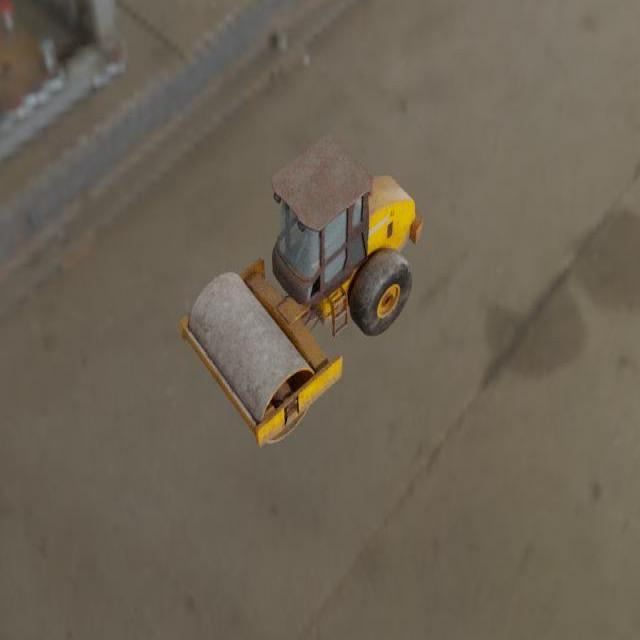Roller: (179, 134, 423, 446)
